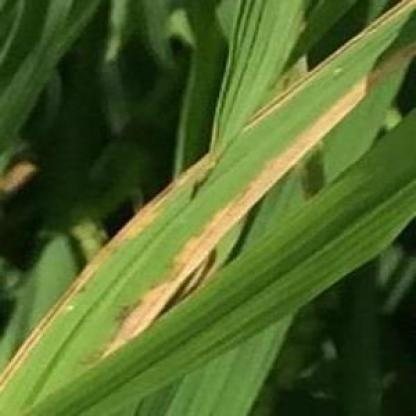Blight: (90, 69, 381, 371), (4, 148, 216, 400)
